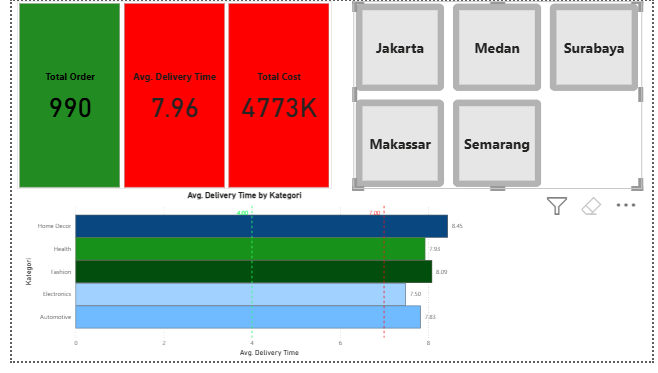

The page's visual inventory and layout, read from the dashboard file:
{"tool":"powerbi","page":{"name":"Page 1","canvas":[1280,720],"ordinal":0},"visuals":[{"type":"cardVisual","fields":{"Data":["Count(supply_chain_cleaned_final.Order_ID)","Avg(supply_chain_cleaned_final.Lead_Time_Days)","Sum(supply_chain_cleaned_final.Shipping_Cost)"]},"box":[10,0,630,378],"z":0},{"type":"clusteredBarChart","title":"Avg. Delivery Time by Kategori","fields":{"Category":["supply_chain_cleaned_final.Product_Category"],"Y":["Avg(supply_chain_cleaned_final.Lead_Time_Days)"]},"box":[10,376.7,910,343.3],"z":1000},{"type":"advancedSlicerVisual","fields":{"Values":["supply_chain_cleaned_final.Warehouse_Location"]},"box":[682.5,0,577.5,377.5],"z":2000}]}

Visuals, with their boxes in screenshot pixels (x1, y1, x2, y2), scaled from the page's 1280x720 canvas onto the 658x373 screenshot:
cardVisual - Count(supply_chain_cleaned_final.Order_ID) x Avg(supply_chain_cleaned_final.Lead_Time_Days): 5:0:329:196
"Avg. Delivery Time by Kategori" clusteredBarChart: 5:195:473:372
advancedSlicerVisual - supply_chain_cleaned_final.Warehouse_Location: 351:0:648:196
